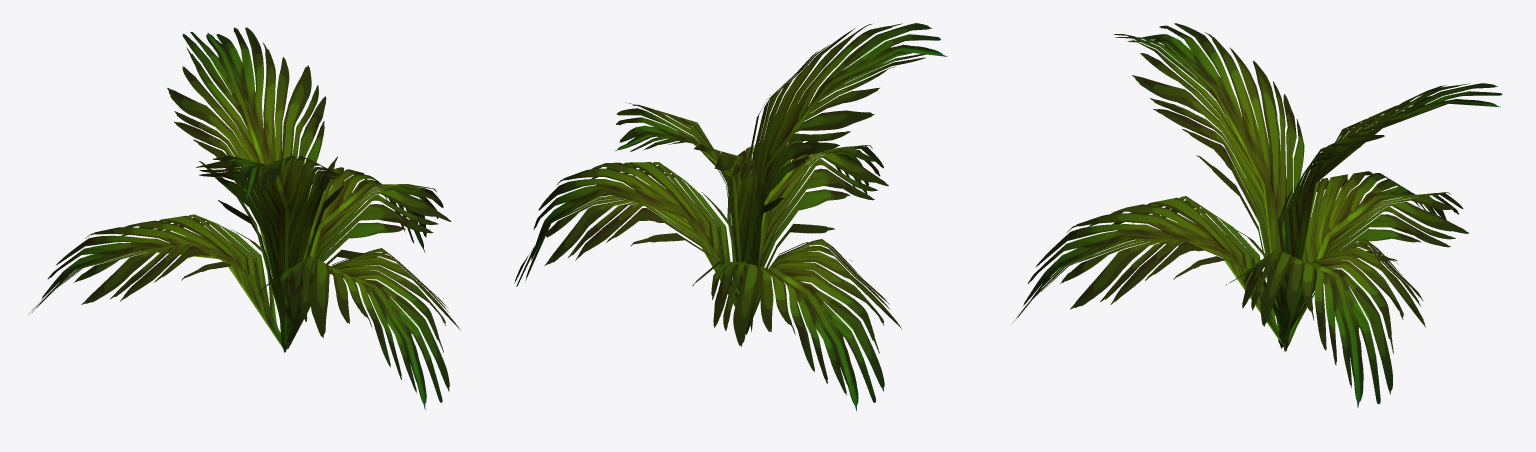
File: strange-tree-bush-foliage.glb
3 views of the same model, side by side, from view 1: azimuth 30°, elevation 25°; view 2: azimuth 150°, elevation 25°; view 3: azimuth 270°, elevation 25° (orthographic). The views are drawn at different scales.
Size of the model in its own units: 1.06 by 0.6862 by 1.17.
Materials: 1 (1 with a texture image).
